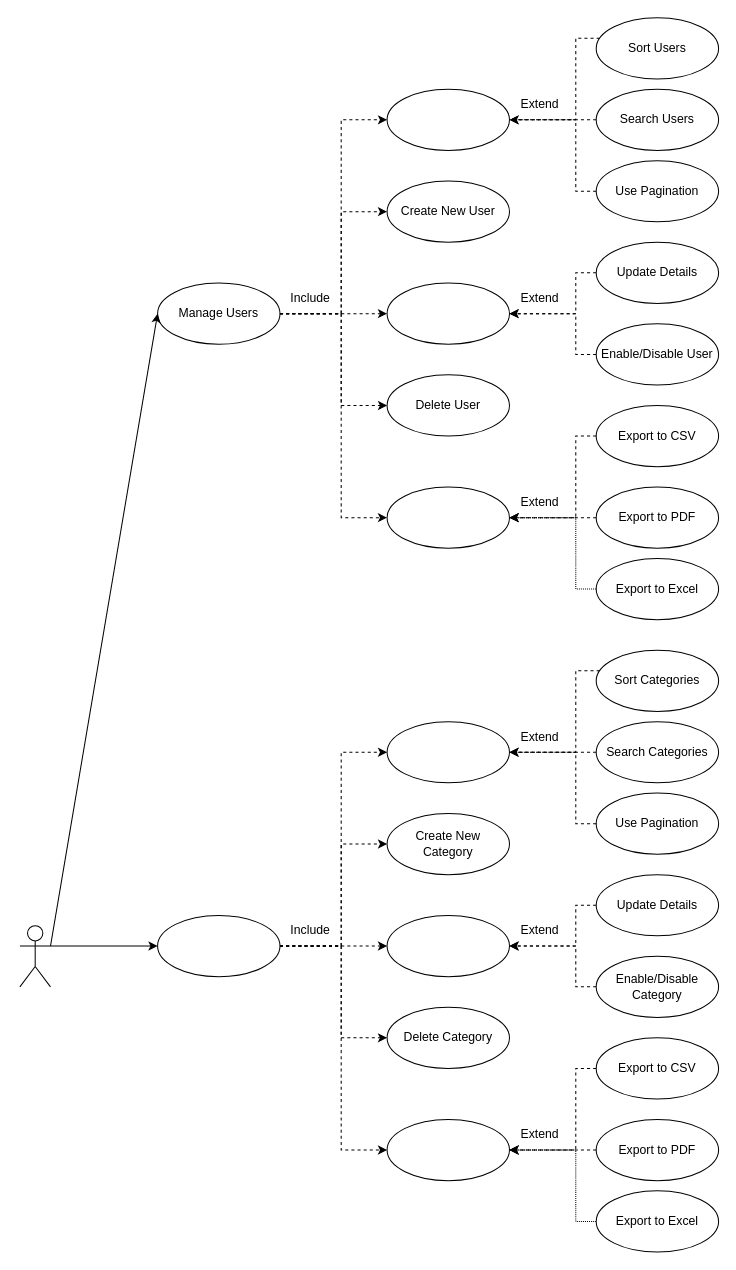
The diagram is 736 pixels wide and 1270 high, and some of its shapes have lost their labels. Here are the shapes that lost their labels. From the top down, the centre of each, then its label:
point (447, 119): List Users
point (447, 313): Update Existing User
point (447, 517): Export Users Information
point (447, 752): List Categories
point (34, 956): Admin
point (218, 945): Manage Categories
point (447, 945): Update Existing Category
point (447, 1149): Export Categories Information
